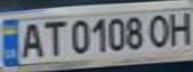0: (66, 16, 90, 55), (106, 14, 130, 52)
1: (87, 15, 109, 53)
8: (124, 12, 148, 51)
A: (18, 19, 45, 58)
H: (163, 9, 193, 46)
O: (145, 11, 175, 48)
T: (36, 18, 66, 57)
